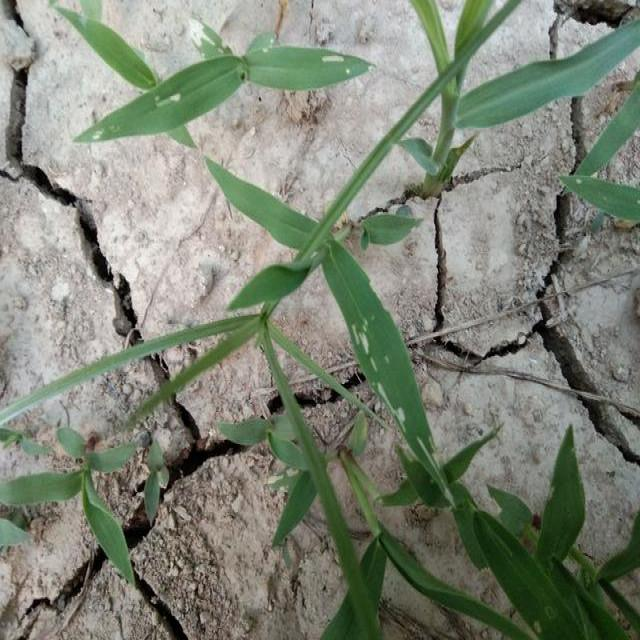weed: (202, 161, 434, 473), (67, 12, 356, 148), (351, 468, 514, 640), (415, 0, 639, 108), (492, 507, 640, 640), (0, 324, 269, 392), (18, 430, 126, 576), (266, 460, 391, 548), (402, 111, 478, 193), (589, 108, 640, 224), (90, 469, 118, 496)
